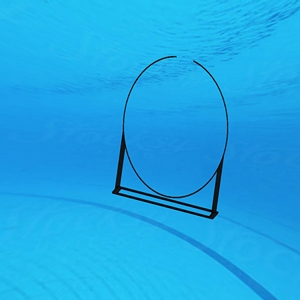circle: (110, 48, 234, 225)
